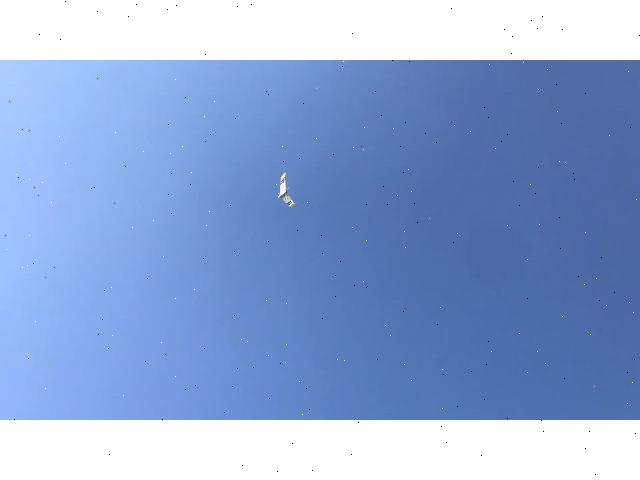Anti-Drone: (261, 155, 305, 217)
